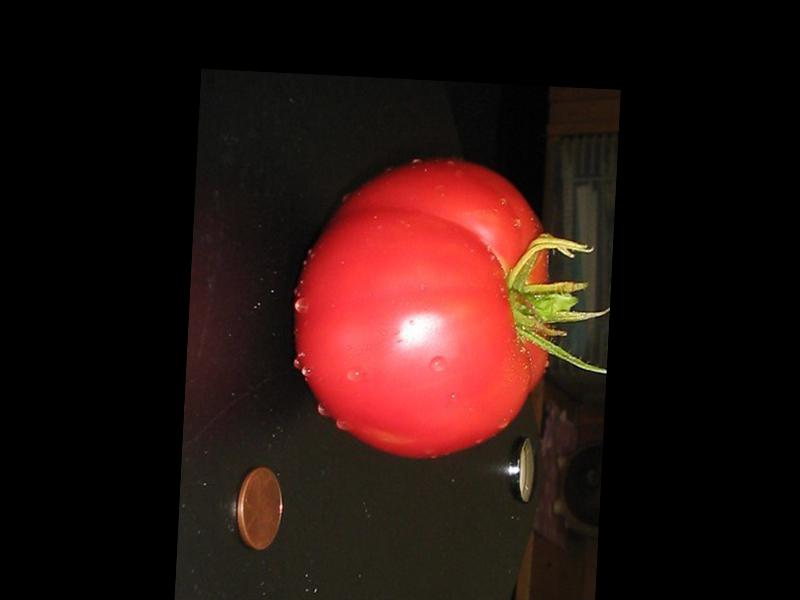Tomato: (287, 149, 559, 463)
